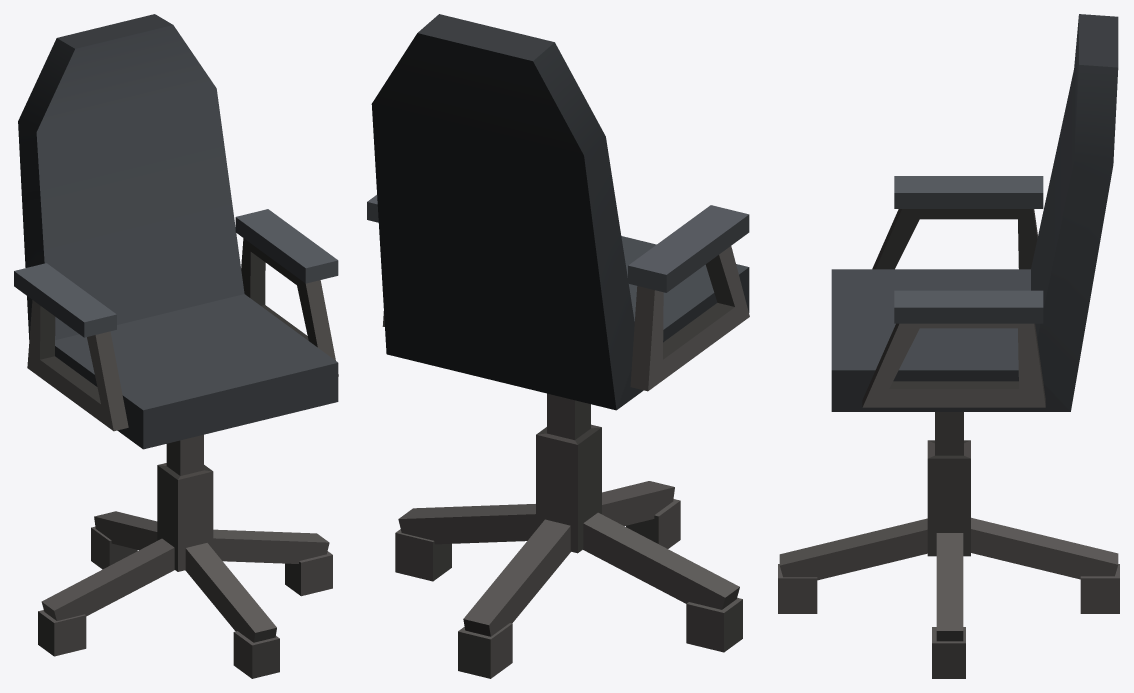
File: Chair1.FBX
The picture shows the model from 3 angles, left to right: view 1: azimuth 30°, elevation 25°; view 2: azimuth 150°, elevation 25°; view 3: azimuth 270°, elevation 25°; orthographic projection. The views are drawn at different scales.
Visible parts, largest first — view 1: SM_Chair_01; view 2: SM_Chair_01; view 3: SM_Chair_01.
Part boxes in pixels (box(x1,y1,x2,y2)): SM_Chair_01: box(14, 14, 338, 678); SM_Chair_01: box(367, 14, 749, 678); SM_Chair_01: box(778, 14, 1119, 678).
Bounding box in the file's own units: 48.77 × 89.35 × 48.77.
